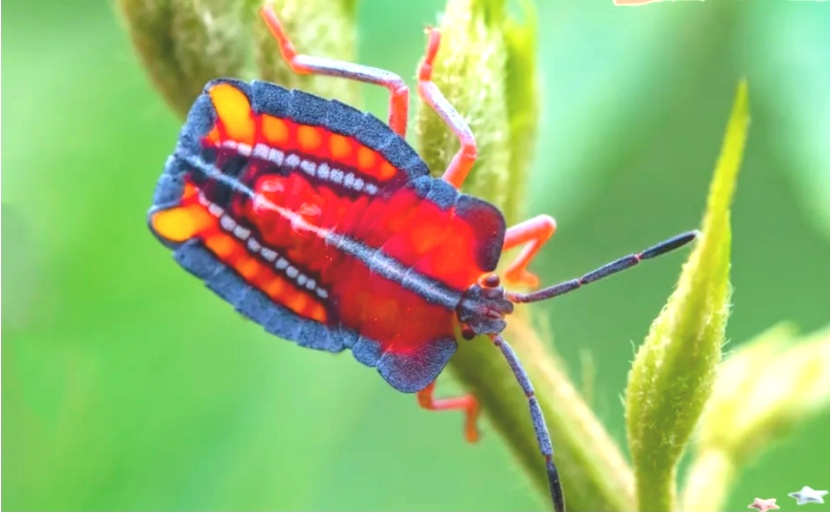Stink_Bug: (204, 28, 469, 395)
